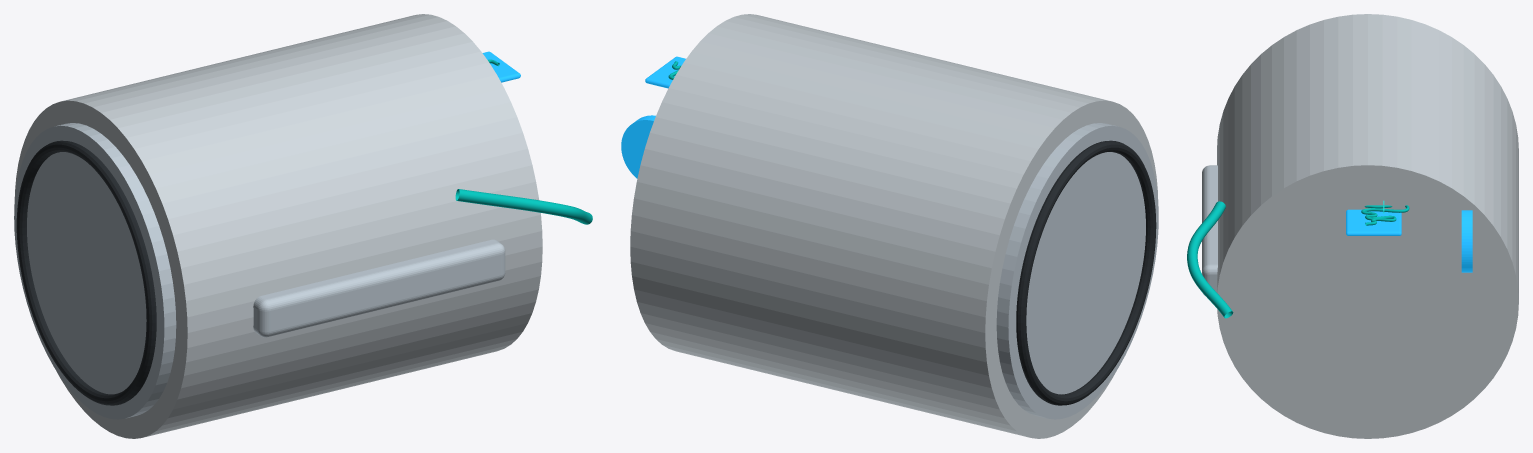
The model's file is autoclave.glb.
The picture shows the model from 3 angles, left to right: view 1: azimuth 30°, elevation 25°; view 2: azimuth 150°, elevation 25°; view 3: azimuth 270°, elevation 25°; orthographic projection. The views are drawn at different scales.
Parts seen in each view (by area): view 1: pressure chamber, front door, drain rail, door gasket, drain tube; view 2: pressure chamber, front door, door gasket, gauge, cycle panel; view 3: pressure chamber, drain rail, drain tube, cycle panel, gauge, screen waveform.
Boxes of the visible parts, box(x1,y1,x2,y2) form: pressure chamber: box(14, 14, 542, 438); front door: box(14, 123, 176, 419); drain rail: box(253, 239, 505, 337); door gasket: box(16, 140, 156, 405); drain tube: box(455, 189, 592, 224); pressure chamber: box(630, 14, 1158, 438); front door: box(996, 123, 1158, 419); door gasket: box(1016, 140, 1156, 405); gauge: box(621, 115, 655, 178); cycle panel: box(645, 56, 685, 88); pressure chamber: box(1217, 14, 1518, 438); drain rail: box(1202, 165, 1217, 295); drain tube: box(1187, 201, 1233, 318); cycle panel: box(1346, 209, 1401, 235); gauge: box(1461, 210, 1472, 272); screen waveform: box(1361, 205, 1409, 225).
Size of the model in its own units: 2.17 by 1.52 by 1.67.
